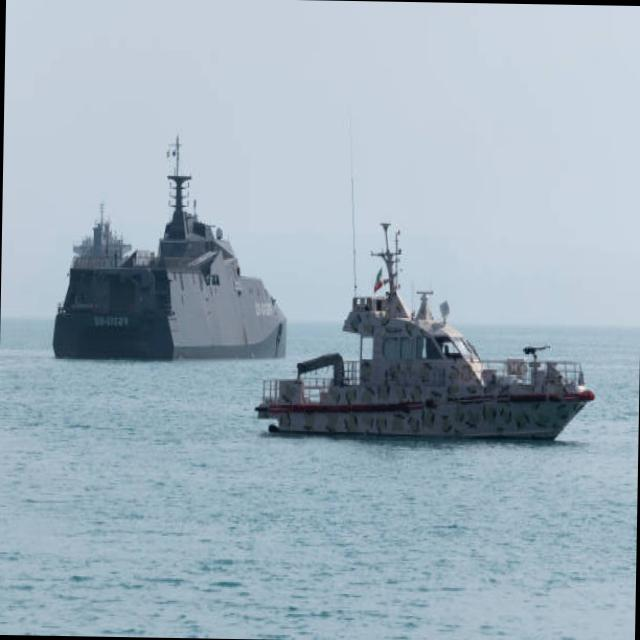Military: (52, 134, 287, 360)
